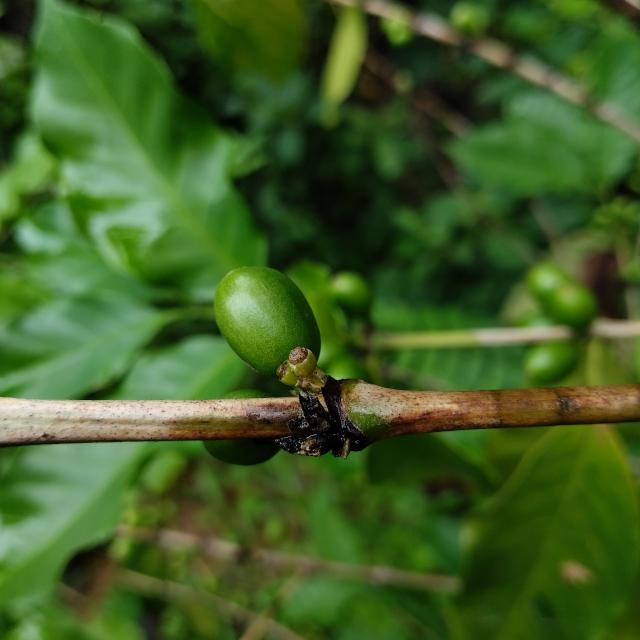green: (214, 267, 321, 377), (203, 440, 280, 466), (221, 389, 271, 399)
